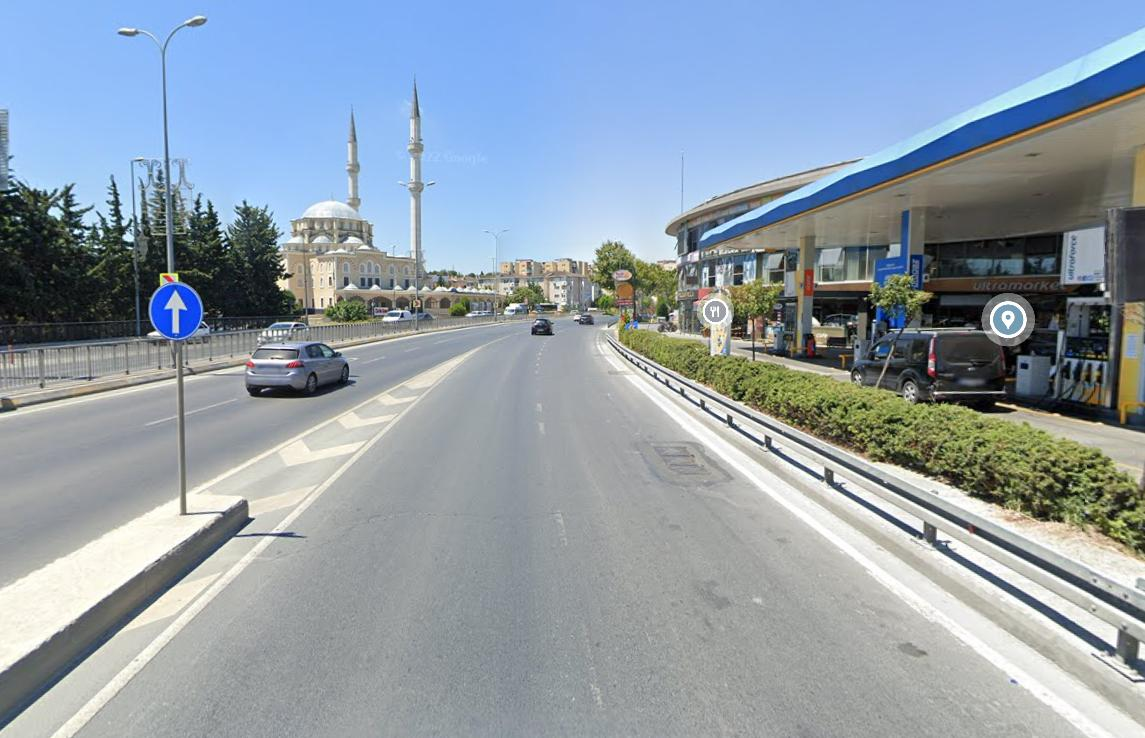forward: (150, 284, 204, 336)
